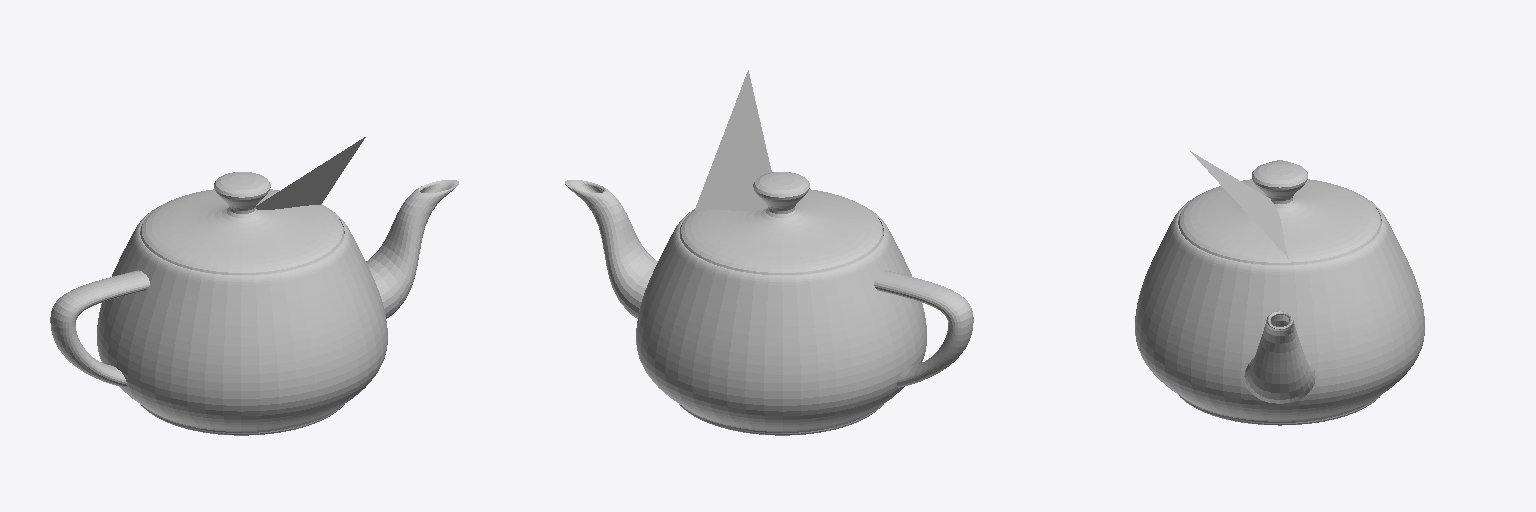
Rendered from teapot.obj.
3 views of the same model, side by side, from view 1: azimuth 30°, elevation 25°; view 2: azimuth 150°, elevation 25°; view 3: azimuth 270°, elevation 25° (orthographic).
Visible parts, largest first — view 1: Base, Top, light; view 2: Base, Top, light; view 3: Base, Top, light.
Part boxes in pixels (bbox=[...]): Base: bbox=[50, 180, 458, 435]; Top: bbox=[140, 172, 343, 275]; light: bbox=[256, 137, 365, 209]; Base: bbox=[565, 180, 973, 435]; Top: bbox=[680, 172, 883, 275]; light: bbox=[695, 70, 771, 210]; Base: bbox=[1135, 160, 1424, 425]; Top: bbox=[1178, 162, 1381, 264]; light: bbox=[1190, 151, 1288, 258].
Bounding box in the file's own units: 154 × 100 × 95.86.